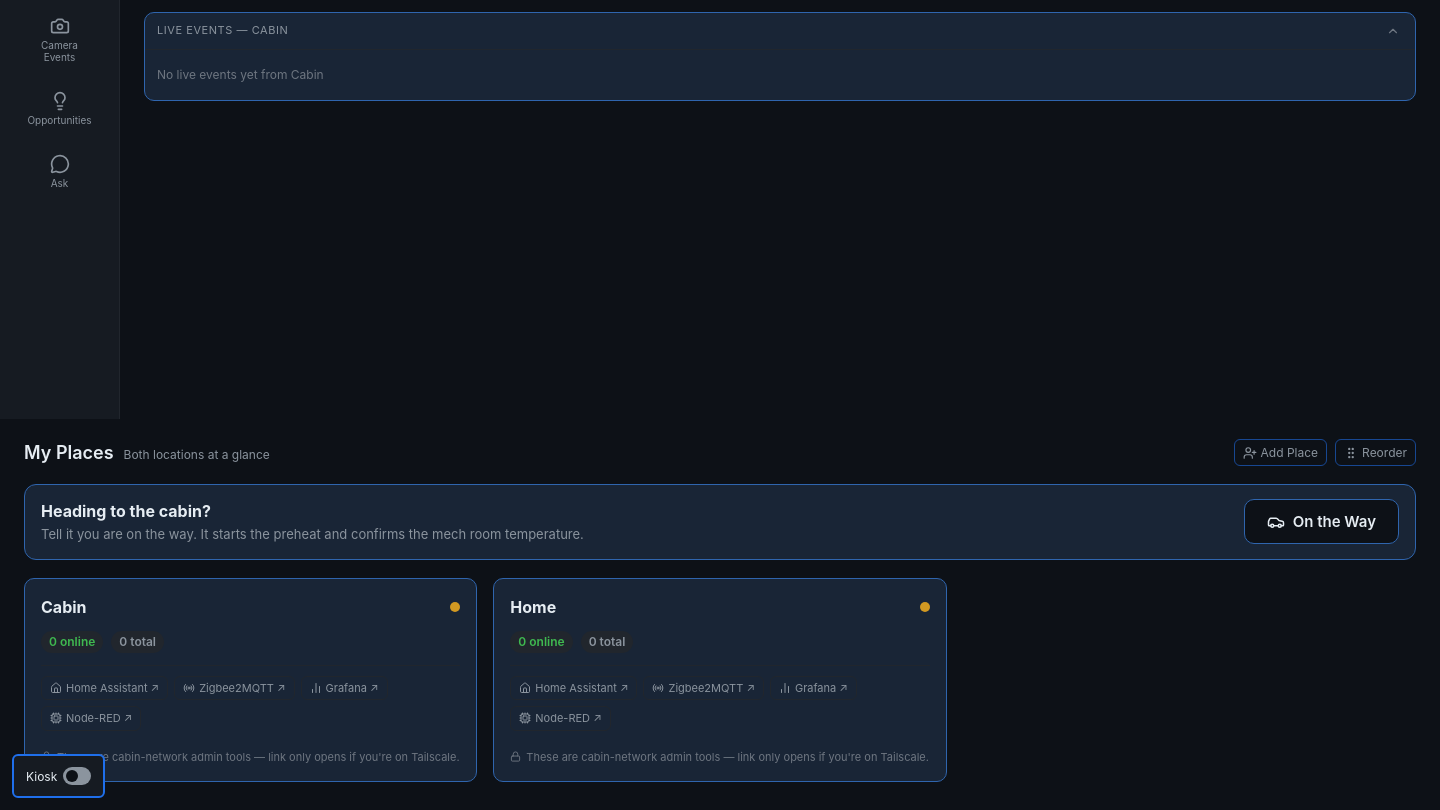
Test: FamilyHubPanel — Add Place › shows the server's error message rather than swallowing a failed create
(page scrolled)
Click the button "Add Place": (1280, 452) 1234,439 -> 1327,466
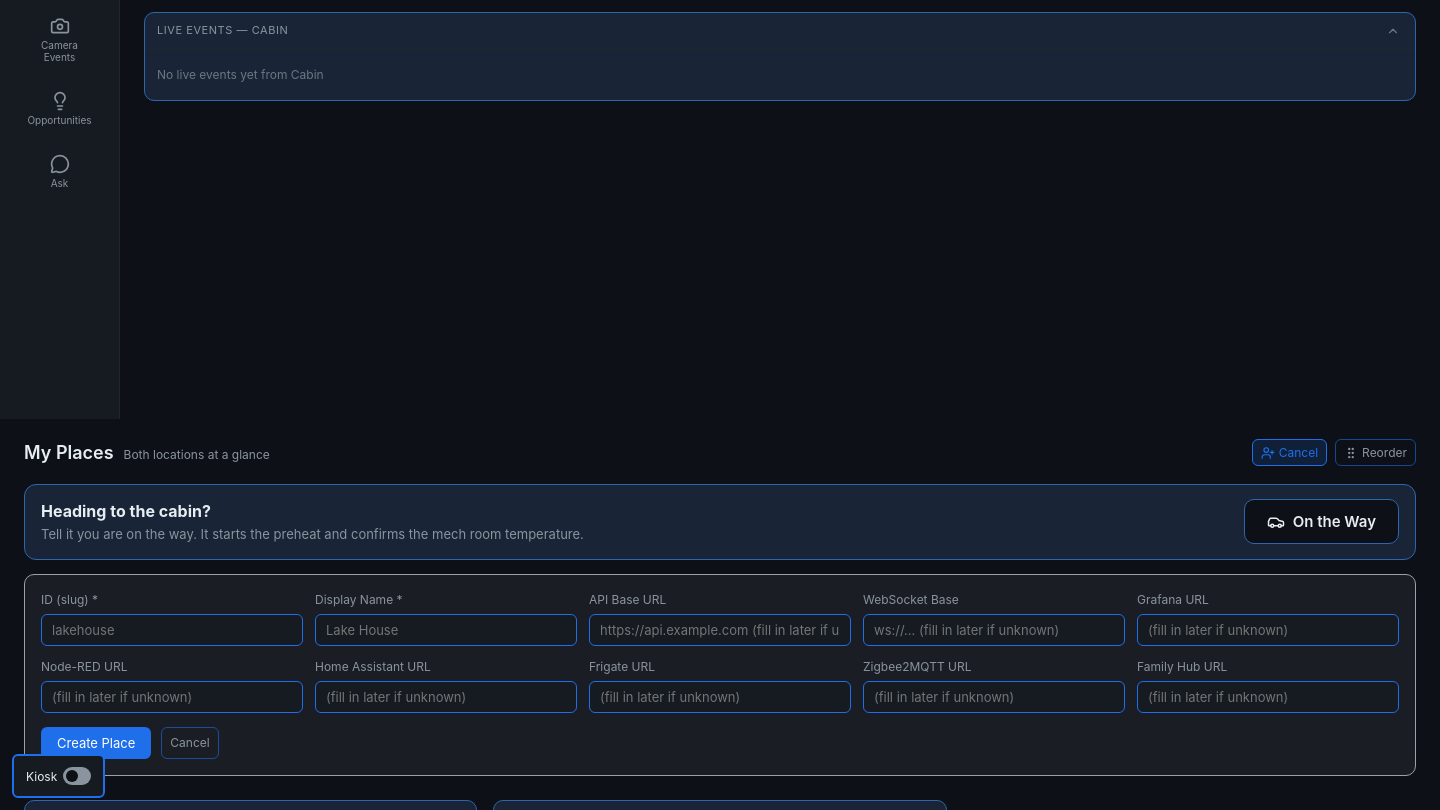
In the field with placeholder "lakehouse": (172, 630) 41,614 -> 303,646, type "x"
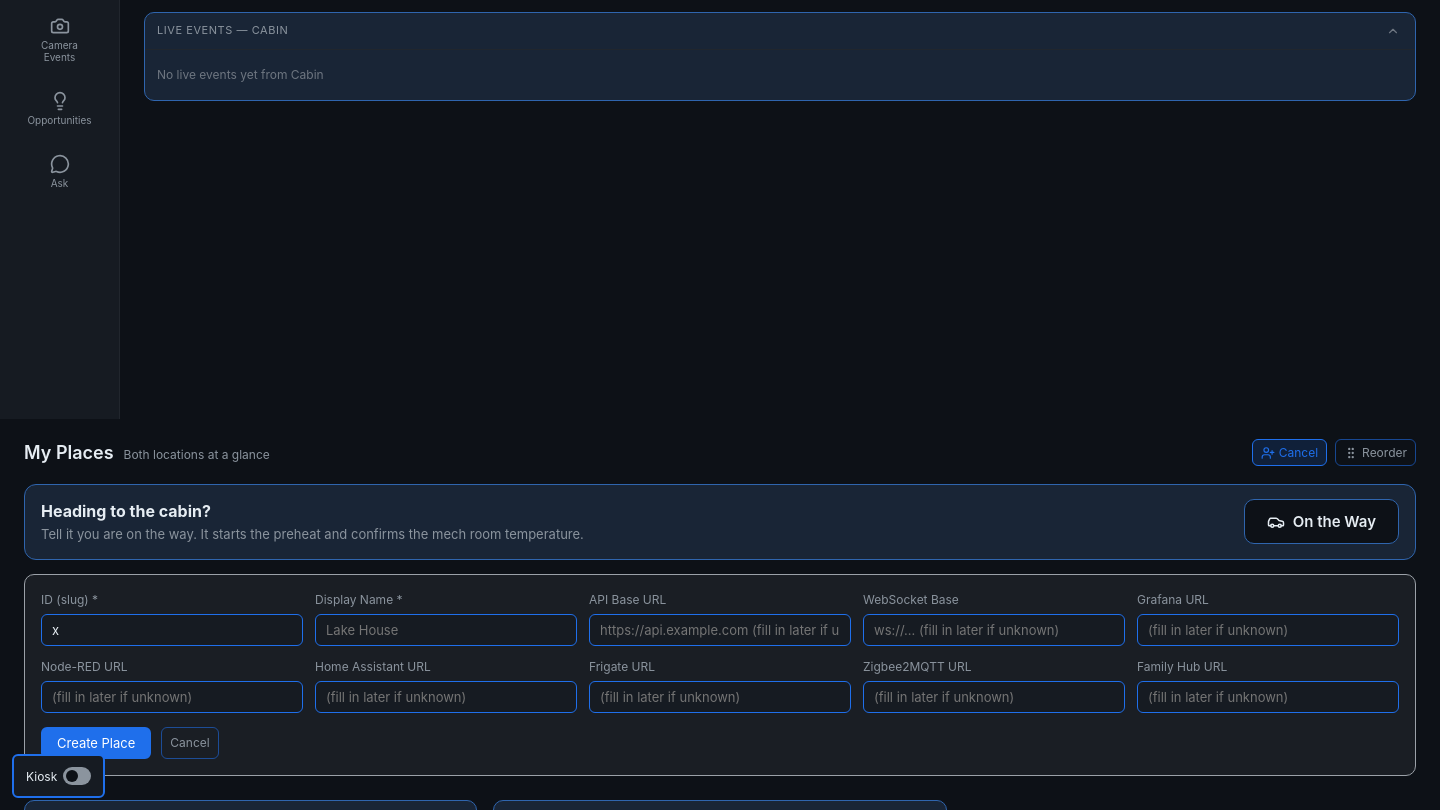
In the field with placeholder "Lake House": (446, 630) 315,614 -> 577,646, type "X"
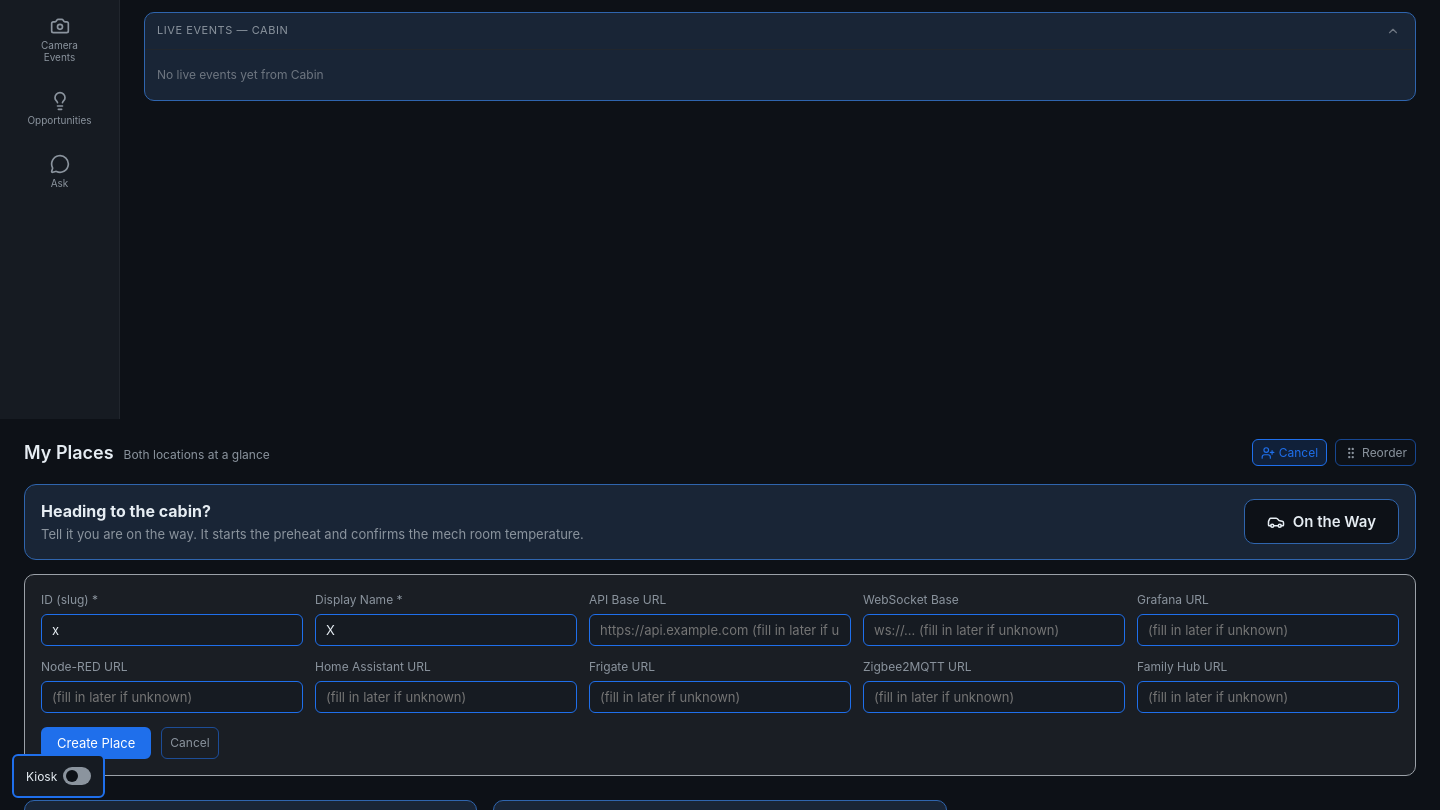
Click the button "Create Place": (96, 742) 41,726 -> 151,758
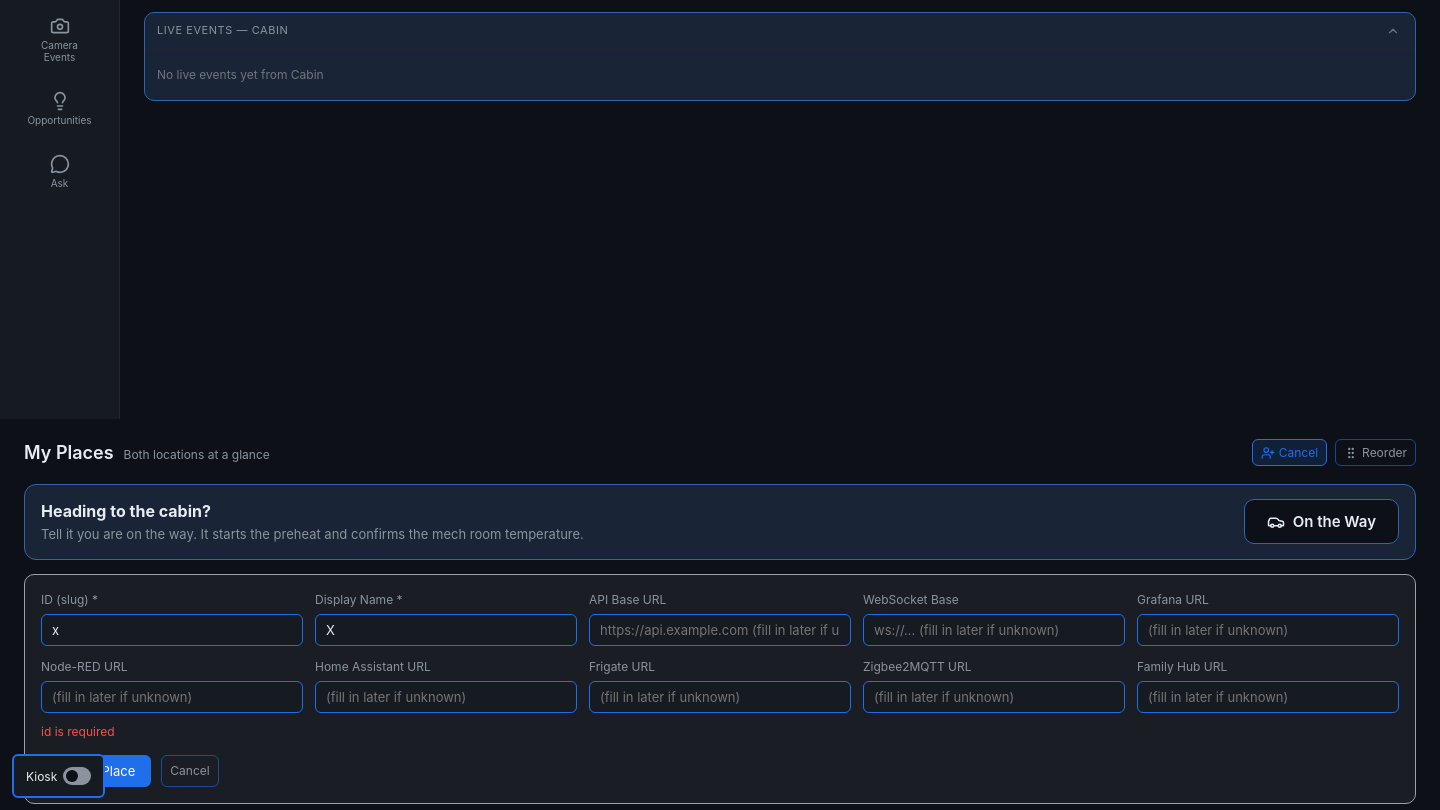
expect the text "id is required" is shown: met, box 41,724 -> 115,738
